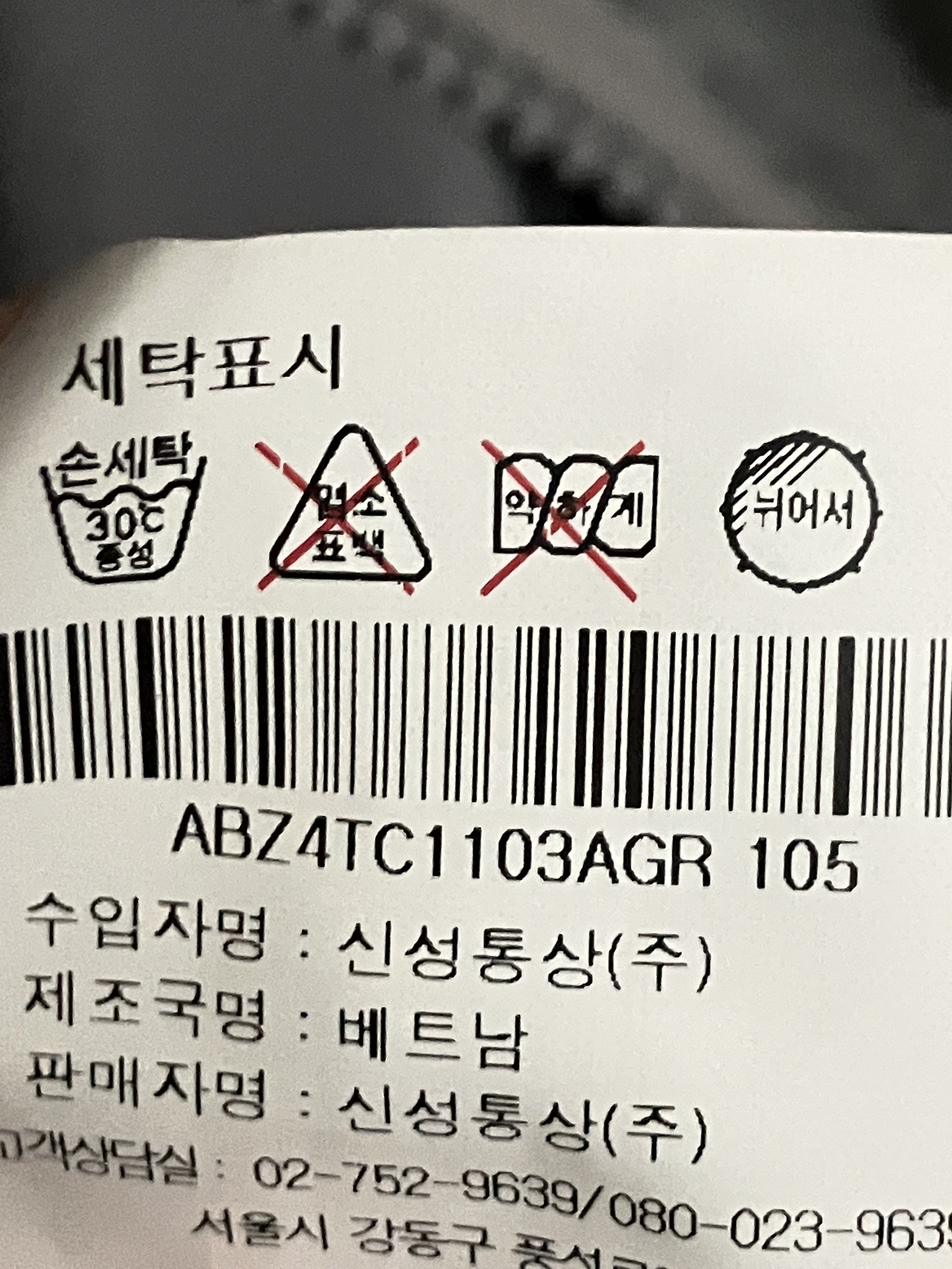KR_flat_dry_in_shade: (715, 419, 896, 608)
KR_hand_wash_30_neutral: (32, 426, 216, 588)
KR_no_chlorine_bleach: (265, 419, 437, 596)
KR_no_wring: (479, 429, 674, 591)
